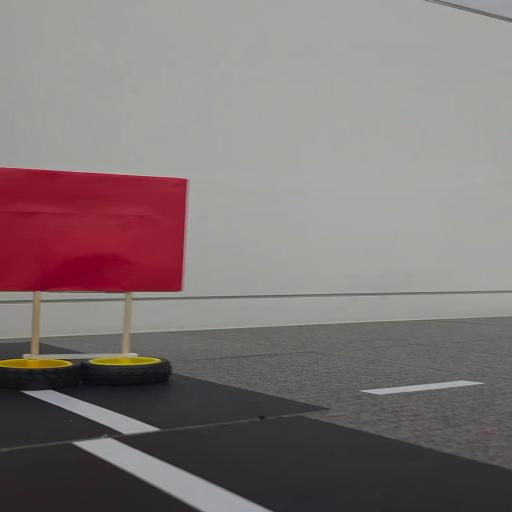Sign_A: (3, 162, 211, 400)
